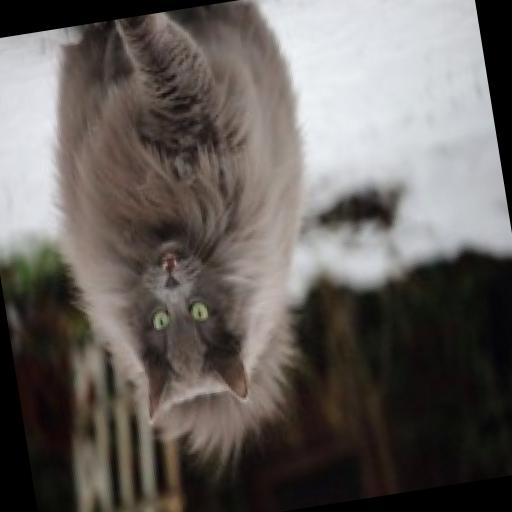cat: (16, 0, 364, 459)
